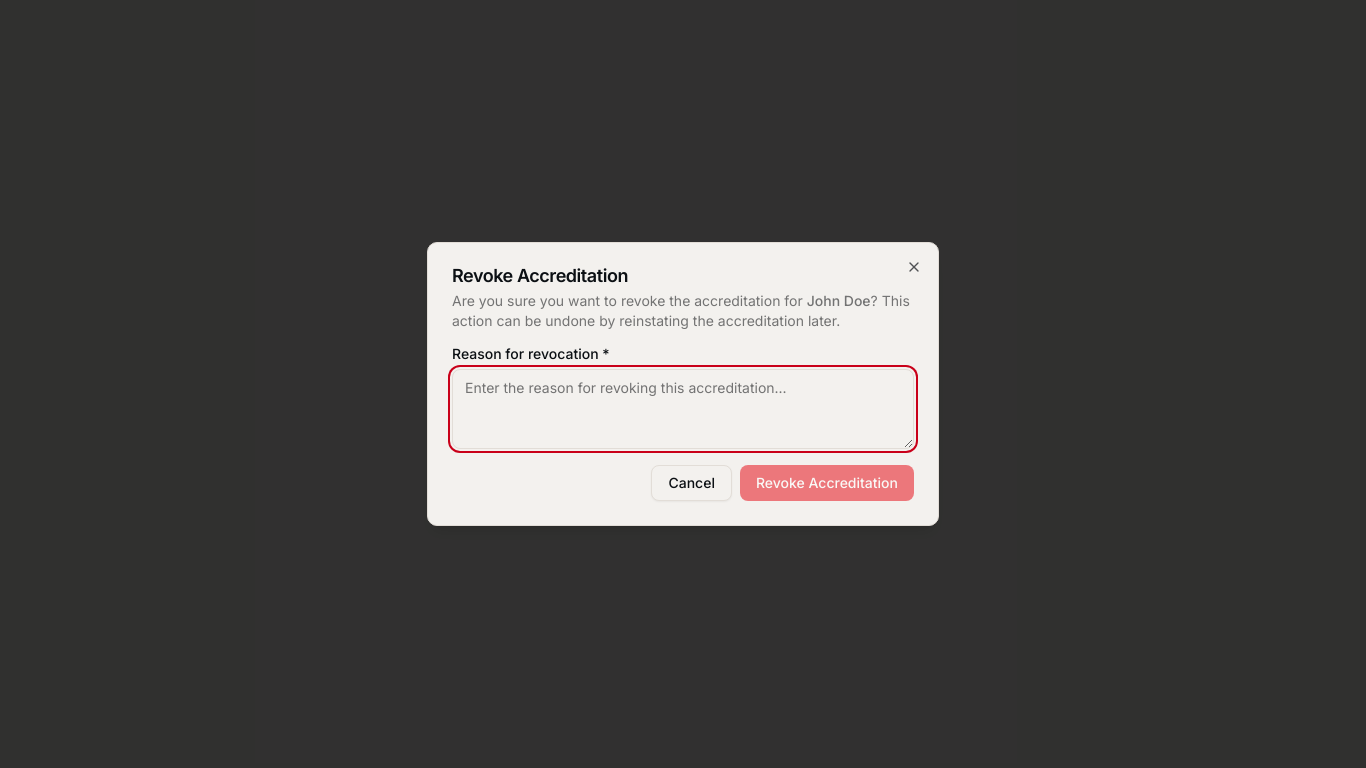
Scenario: RevokeDialog › displays error message when API returns an error
Type "Some reason" into the text box with placeholder "Enter the reason for revoking this accreditation...". click: (683, 409)
box: [452,369,914,449]
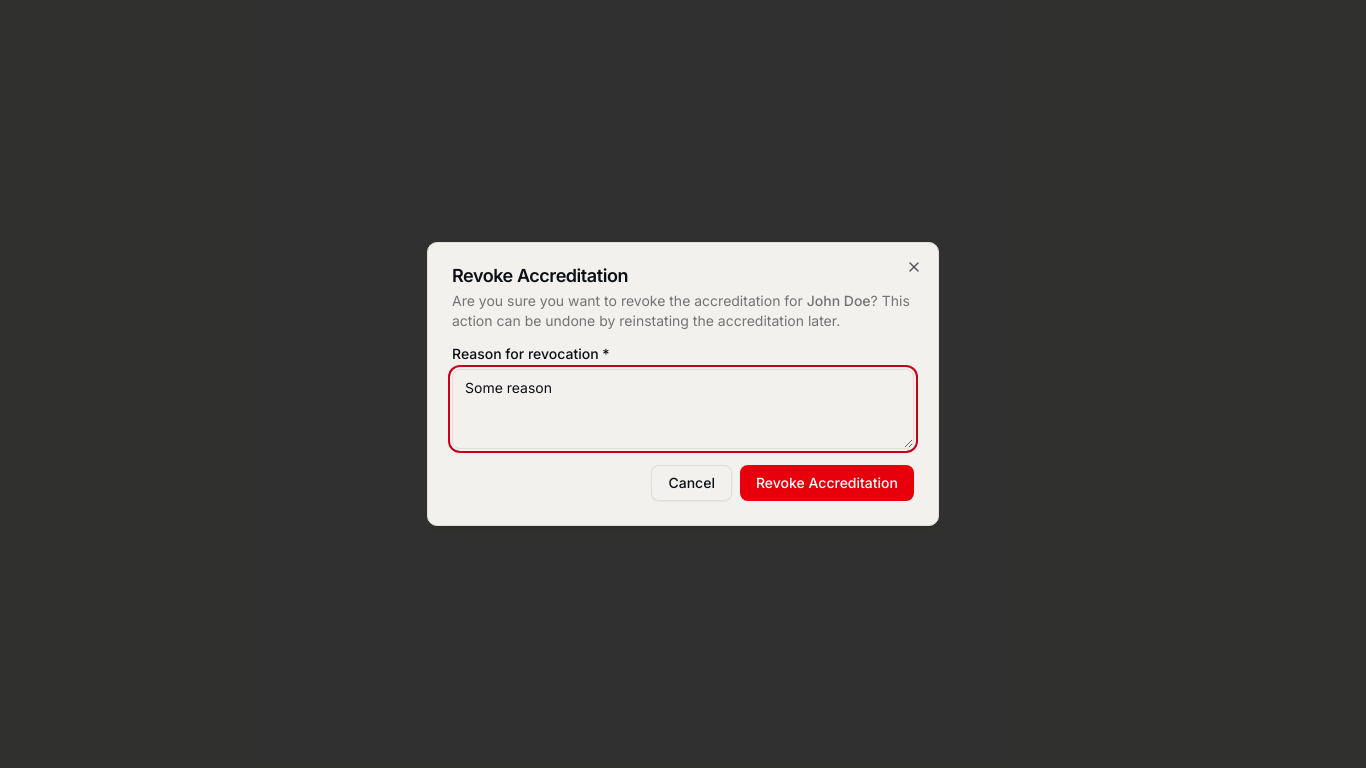
Click the button "Revoke Accreditation". click: (827, 483)
box: [740,465,914,501]
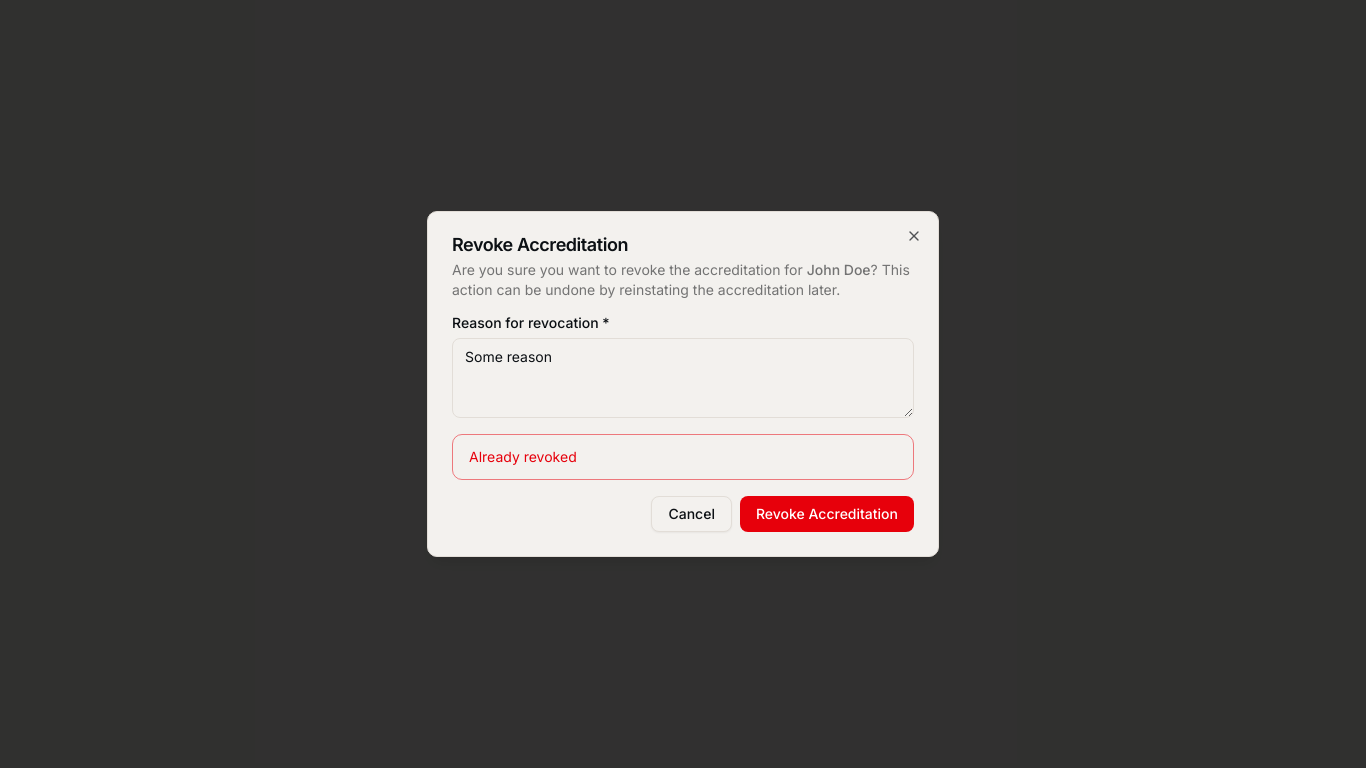
Now the text "Already revoked" is shown, box [469,448,577,465]
